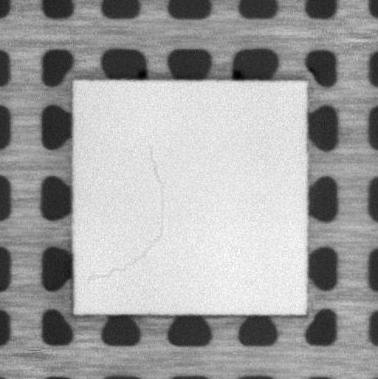DIE_CRACK: (89, 146, 167, 283)
